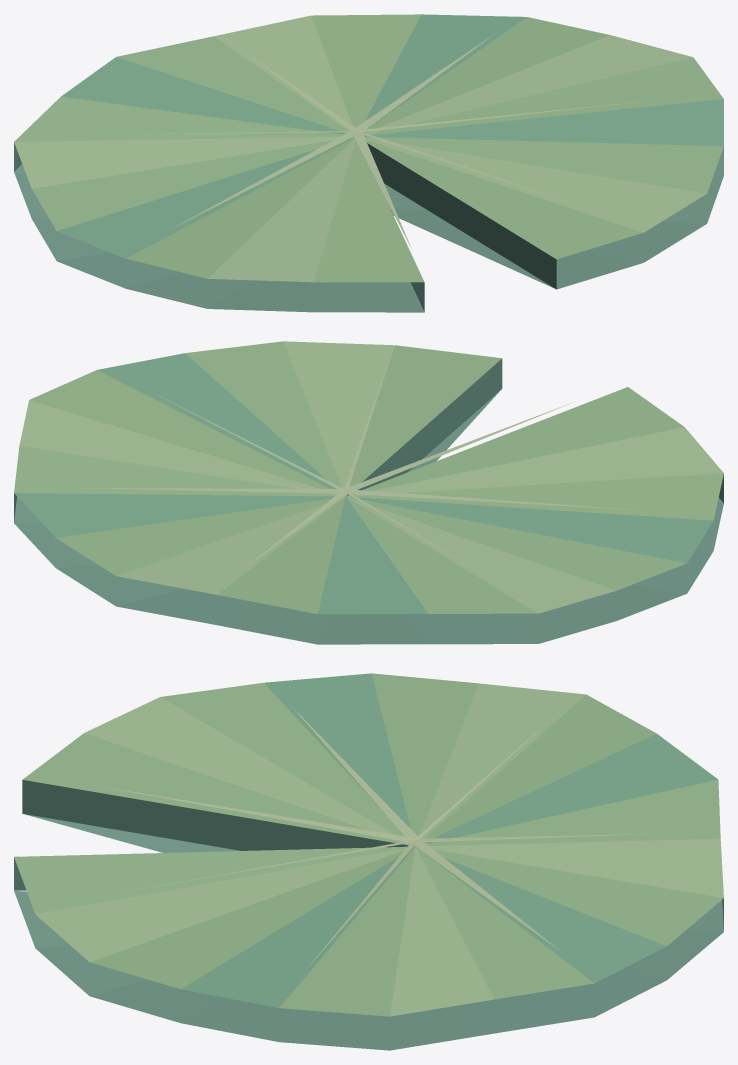
Rendered from lily_pad_large.glb.
3 renders of one model, top to bottom at view 1: azimuth 30°, elevation 25°; view 2: azimuth 150°, elevation 25°; view 3: azimuth 270°, elevation 25°, orthographic. The views are drawn at different scales.
Visible parts, largest first — view 1: Broad_lily_pad_leaf, Broad_lily_pad_edge, Broad_lily_pad_veins; view 2: Broad_lily_pad_leaf, Broad_lily_pad_edge, Broad_lily_pad_veins; view 3: Broad_lily_pad_leaf, Broad_lily_pad_edge, Broad_lily_pad_veins.
Boxes of the visible parts, x1,y1,x2,y2 form: Broad_lily_pad_leaf: (14, 14, 723, 282); Broad_lily_pad_edge: (14, 142, 723, 312); Broad_lily_pad_veins: (81, 33, 654, 248); Broad_lily_pad_leaf: (14, 341, 723, 614); Broad_lily_pad_edge: (14, 358, 723, 644); Broad_lily_pad_veins: (82, 370, 645, 584); Broad_lily_pad_leaf: (14, 673, 723, 1016); Broad_lily_pad_edge: (14, 780, 723, 1050); Broad_lily_pad_veins: (95, 705, 660, 969).
Size of the model in its own units: 2.13 by 0.2183 by 1.8.
